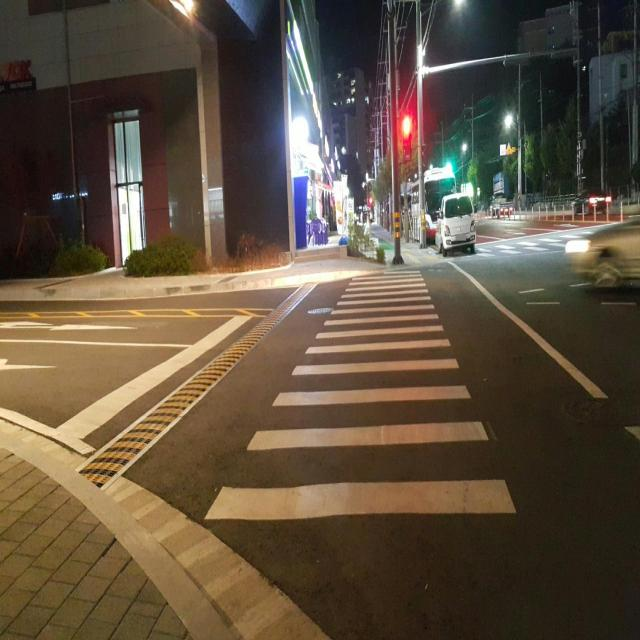빨간불: (403, 110, 412, 162)
횡단보도: (202, 266, 519, 523)
